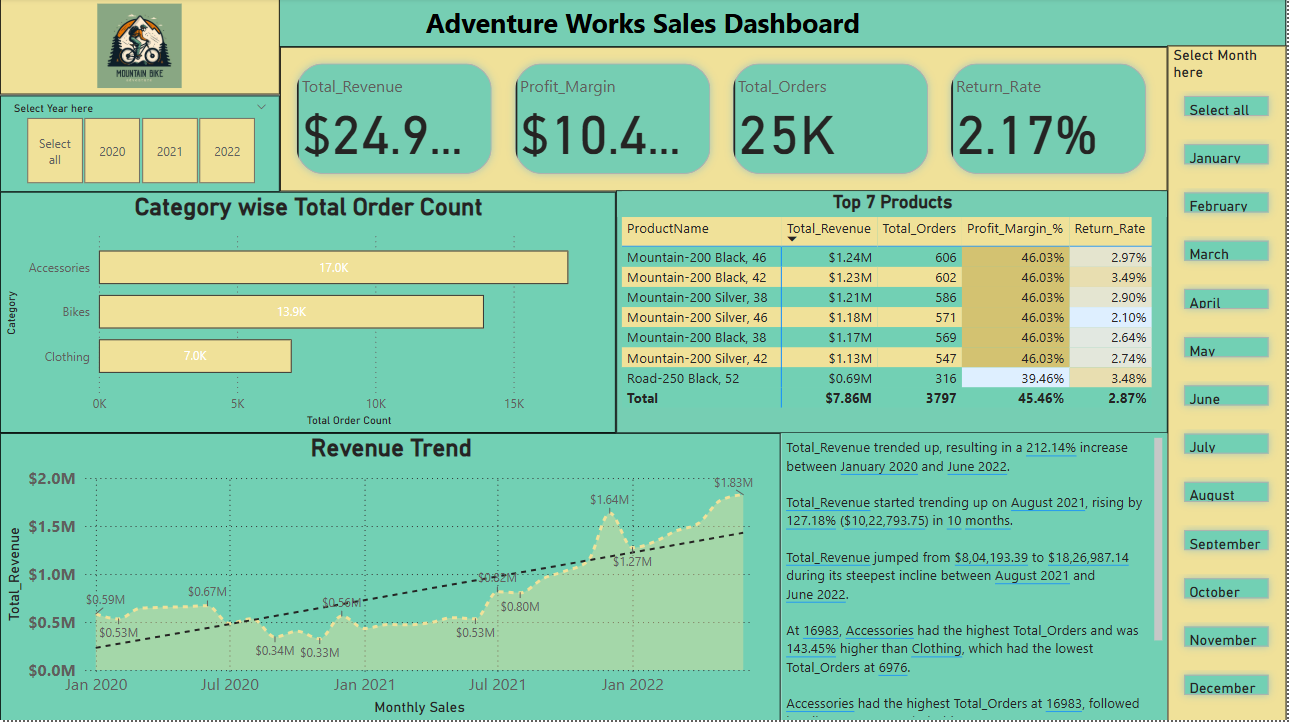

The page's visual inventory and layout, read from the dashboard file:
{"tool":"powerbi","page":{"name":"Dashboard","canvas":[1280,720],"ordinal":5},"visuals":[{"type":"cardVisual","fields":{"Data":["Measure_Table.Total_Revenue","Measure_Table.Profit_Margin","Measure_Table.Total_Orders","Measure_Table.Return_Rate"]},"box":[278.6,48.6,882.9,144.3],"z":0},{"type":"textbox","box":[0,0,1279.7,49.1],"z":1000},{"type":"slicer","fields":{"Values":["Calendar Lookup.Date.Variation.Date Hierarchy.Year"]},"box":[0,97.1,278.6,95.7],"z":2000},{"type":"clusteredBarChart","title":"Category wise Total Order Count","fields":{"Category":["Product Categories Lookup.CategoryName"],"Y":["Measure_Table.Total_Orders"]},"box":[0,192.9,612.9,240],"z":3000},{"type":"advancedSlicerVisual","title":"Select Month here","fields":{"Values":["Calendar Lookup.Date.Variation.Date Hierarchy.Month"]},"box":[1161.4,47.1,118.6,672.9],"z":4000},{"type":"lineChart","title":"Revenue Trend","fields":{"Y":["Measure_Table.Total_Revenue"],"Category":["Calendar Lookup.Date.Variation.Date Hierarchy.Year","Calendar Lookup.Date.Variation.Date Hierarchy.Month"]},"box":[0,432.9,777.1,287.1],"z":5000},{"type":"pivotTable","title":"Top 7 Products","fields":{"Rows":["Product Lookup.ProductName"],"Values":["Measure_Table.Total_Revenue","Measure_Table.Total_Orders","Measure_Table.Profit_Margin_%","Measure_Table.Return_Rate"]},"box":[612.9,191.4,548.6,241.4],"z":6000},{"type":"image","box":[0,0,278.6,95.7],"z":7000},{"type":"textbox","box":[777,433,384,287],"z":8000}]}

Visuals, with their boxes in screenshot pixels (x1, y1, x2, y2), scaled from the page's 1280x720 canvas onto the 1290x722 screenshot:
cardVisual - Measure_Table.Total_Revenue x Measure_Table.Profit_Margin: <bbox>281, 49, 1171, 193</bbox>
textbox: <bbox>0, 0, 1289, 49</bbox>
slicer - Calendar Lookup.Date.Variation.Date Hierarchy.Year: <bbox>0, 97, 281, 193</bbox>
"Category wise Total Order Count" clusteredBarChart: <bbox>0, 193, 618, 434</bbox>
"Select Month here" advancedSlicerVisual: <bbox>1170, 47, 1289, 721</bbox>
"Revenue Trend" lineChart: <bbox>0, 434, 783, 721</bbox>
"Top 7 Products" pivotTable: <bbox>618, 192, 1171, 434</bbox>
image: <bbox>0, 0, 281, 96</bbox>
textbox: <bbox>783, 434, 1170, 721</bbox>
